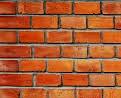brick: (16, 1, 46, 15), (1, 74, 33, 86), (47, 1, 74, 15), (32, 15, 61, 28), (1, 16, 32, 28), (18, 30, 44, 44), (1, 45, 30, 57), (75, 2, 101, 15), (46, 31, 72, 44), (74, 31, 100, 44), (19, 59, 45, 72), (34, 45, 60, 57), (47, 60, 73, 72), (89, 45, 114, 57), (63, 74, 88, 86), (90, 74, 114, 86), (61, 17, 86, 28), (88, 17, 113, 28), (62, 46, 87, 57), (75, 61, 101, 71), (21, 88, 47, 98), (103, 1, 121, 15), (102, 31, 121, 44), (37, 74, 59, 85), (48, 88, 74, 97), (102, 61, 121, 72), (75, 90, 101, 98), (1, 59, 18, 71), (1, 1, 16, 14), (1, 30, 17, 42), (1, 88, 20, 96), (104, 89, 119, 98), (115, 17, 121, 29), (117, 46, 121, 58), (117, 75, 121, 86)
